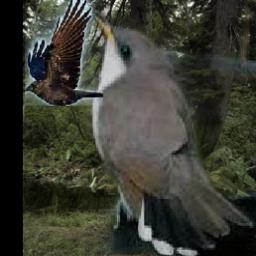Crow: (26, 0, 104, 107)
Cuckoo: (85, 7, 256, 256)
